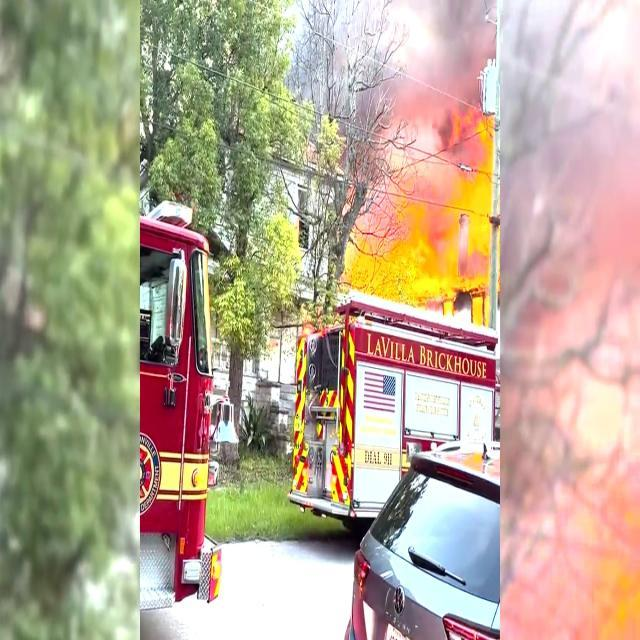Fire: (430, 155, 494, 276), (364, 238, 418, 317)
Smoke: (391, 4, 506, 126)
